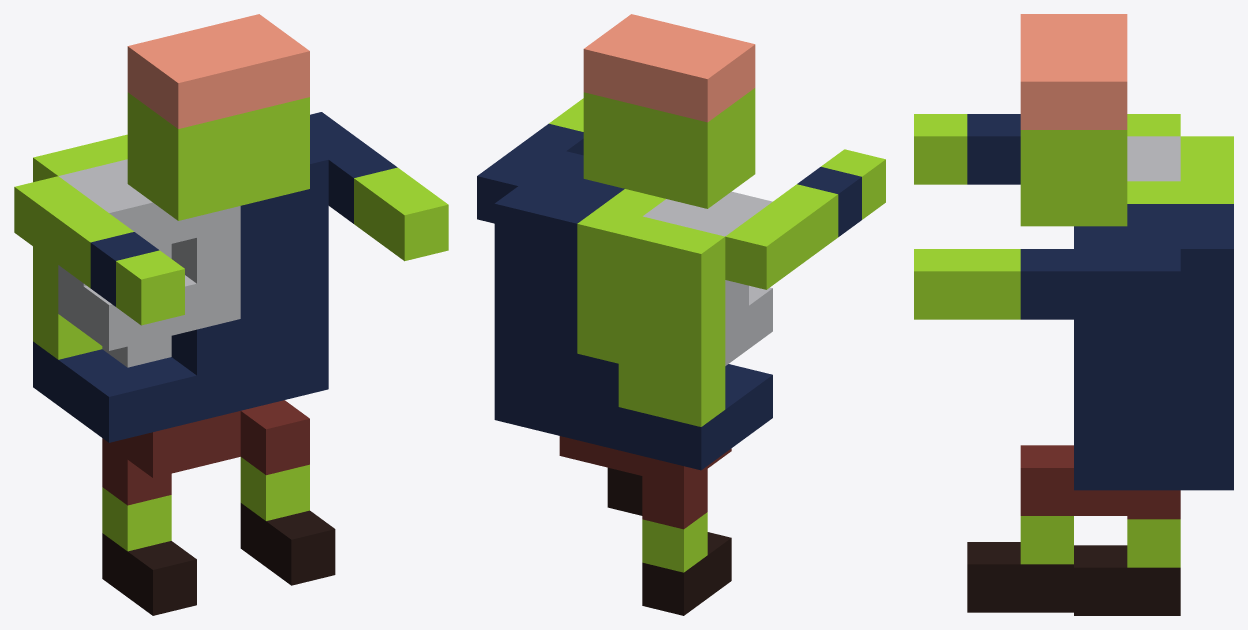
Rendered from zombie_action_0.obj.
3 views of the same model, side by side, from view 1: azimuth 30°, elevation 25°; view 2: azimuth 150°, elevation 25°; view 3: azimuth 270°, elevation 25° (orthographic). The views are drawn at different scales.
Size of the model in its own units: 0.7 by 1.2 by 0.6.
Materials: 1 (1 with a texture image).
